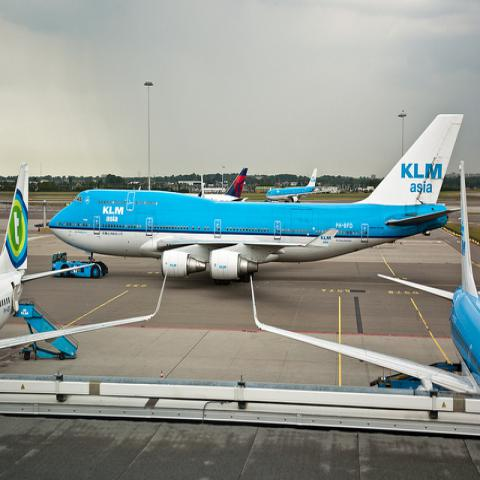car: (51, 252, 109, 276)
